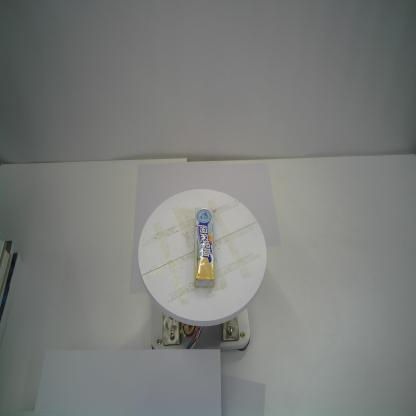Candy: (194, 207, 215, 288)
